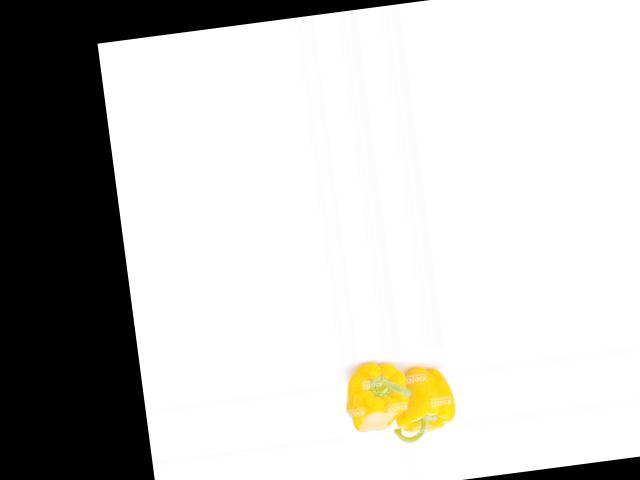bell_pepper: (383, 361, 460, 442)
